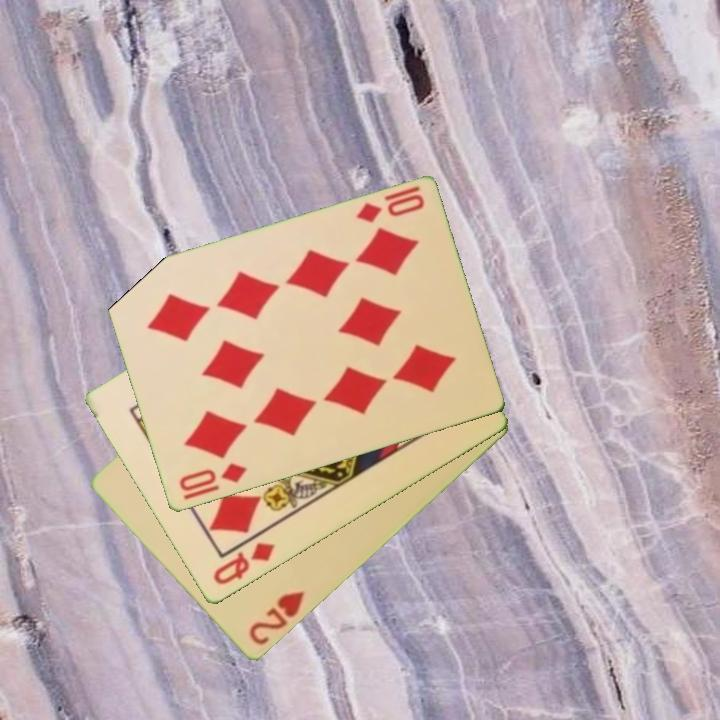10d: (352, 183, 428, 227), (175, 459, 250, 495)
2h: (245, 588, 308, 649)
Qd: (209, 539, 278, 589)
